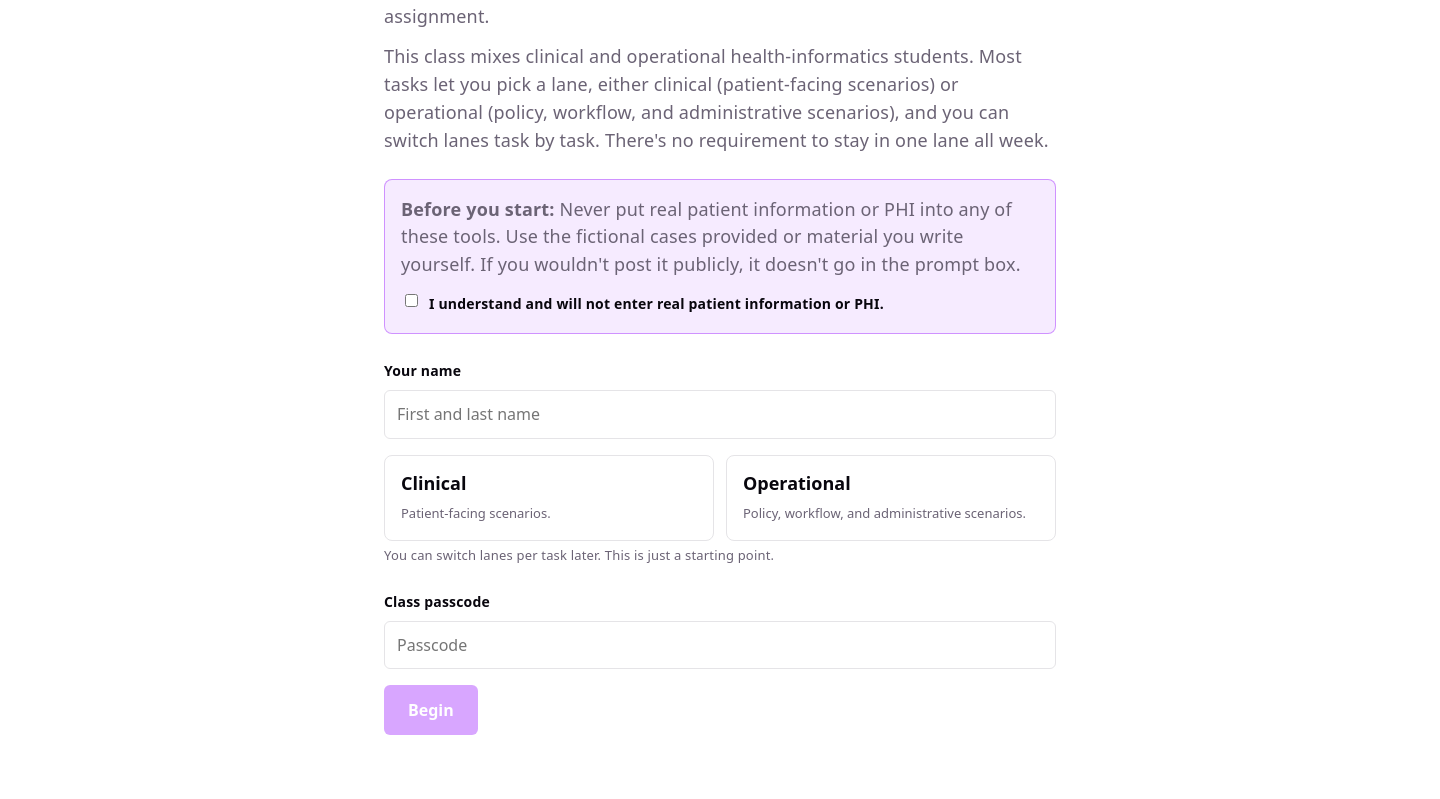
Test: App — first-visit vs resumed greeting › says "Welcome," not "Welcome back," right after completing landing this session
(page scrolled)
Type "Jordan Lee" into the field labelled "Your name".
click(720, 414); type("Jordan Lee")  # box [384,390,1056,438]
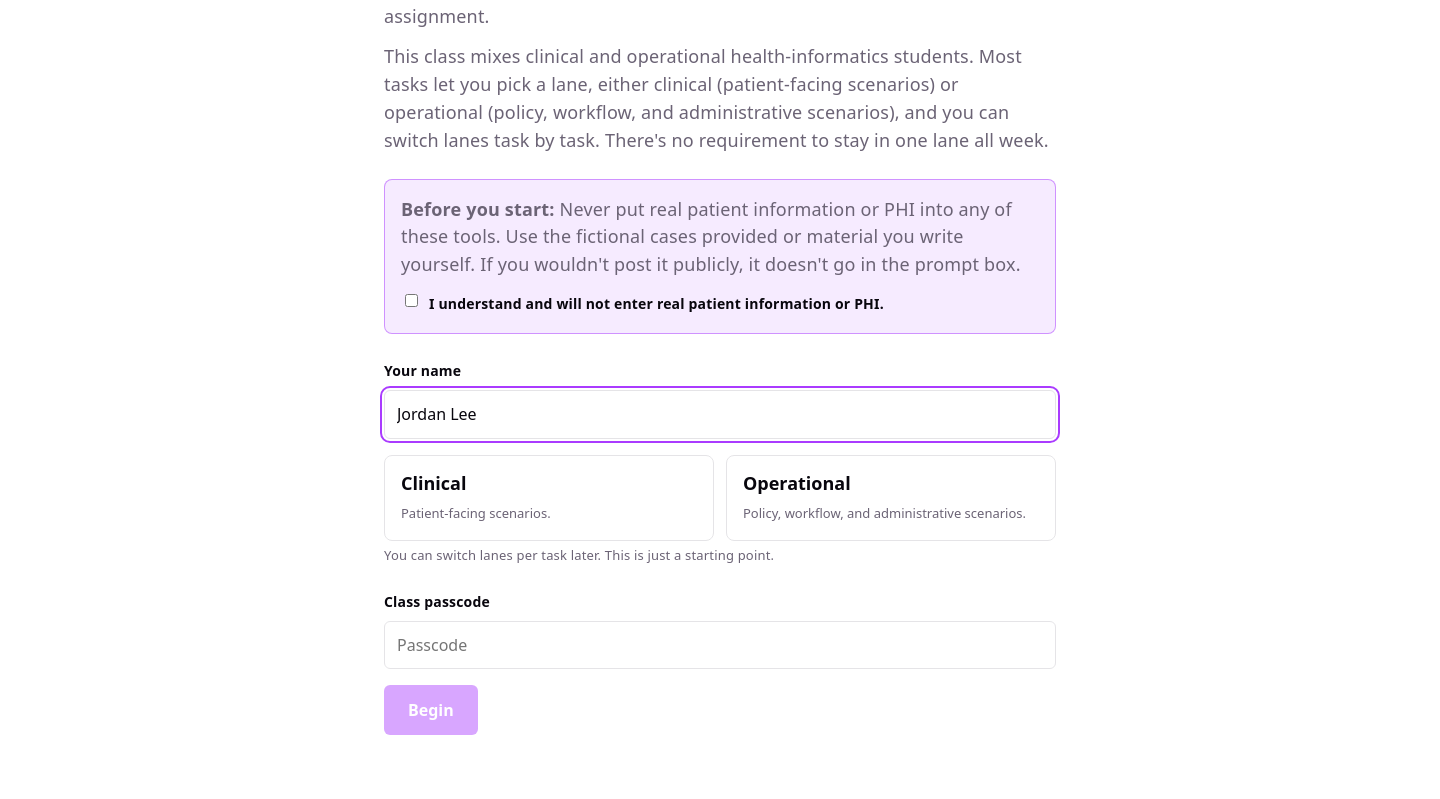
Click the button "Clinical Patient-facing scenarios.".
click(434, 482)  # box [384,454,714,541]
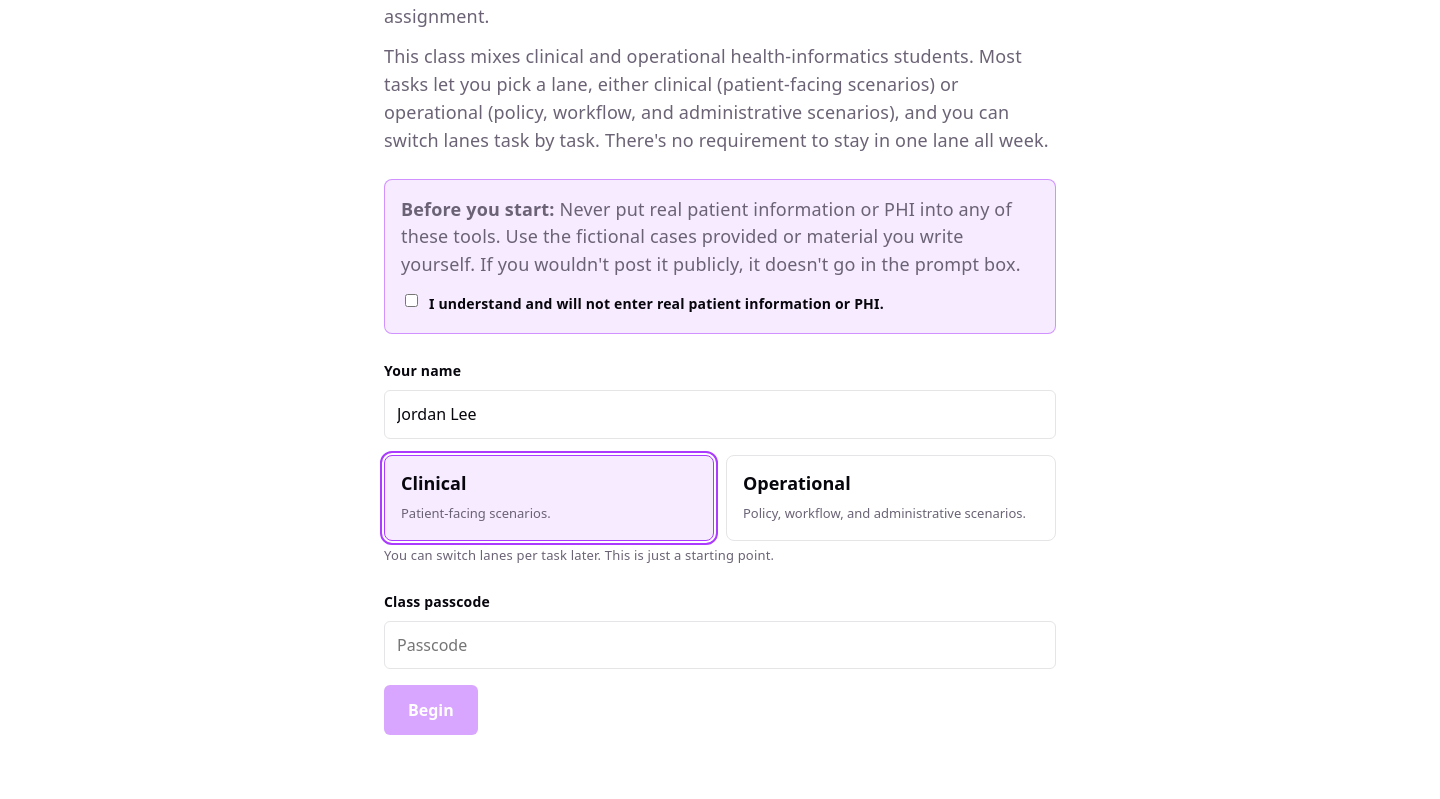
Click the checkbox labelled "will not enter real patient information".
click(412, 301)  # box [405,294,418,307]
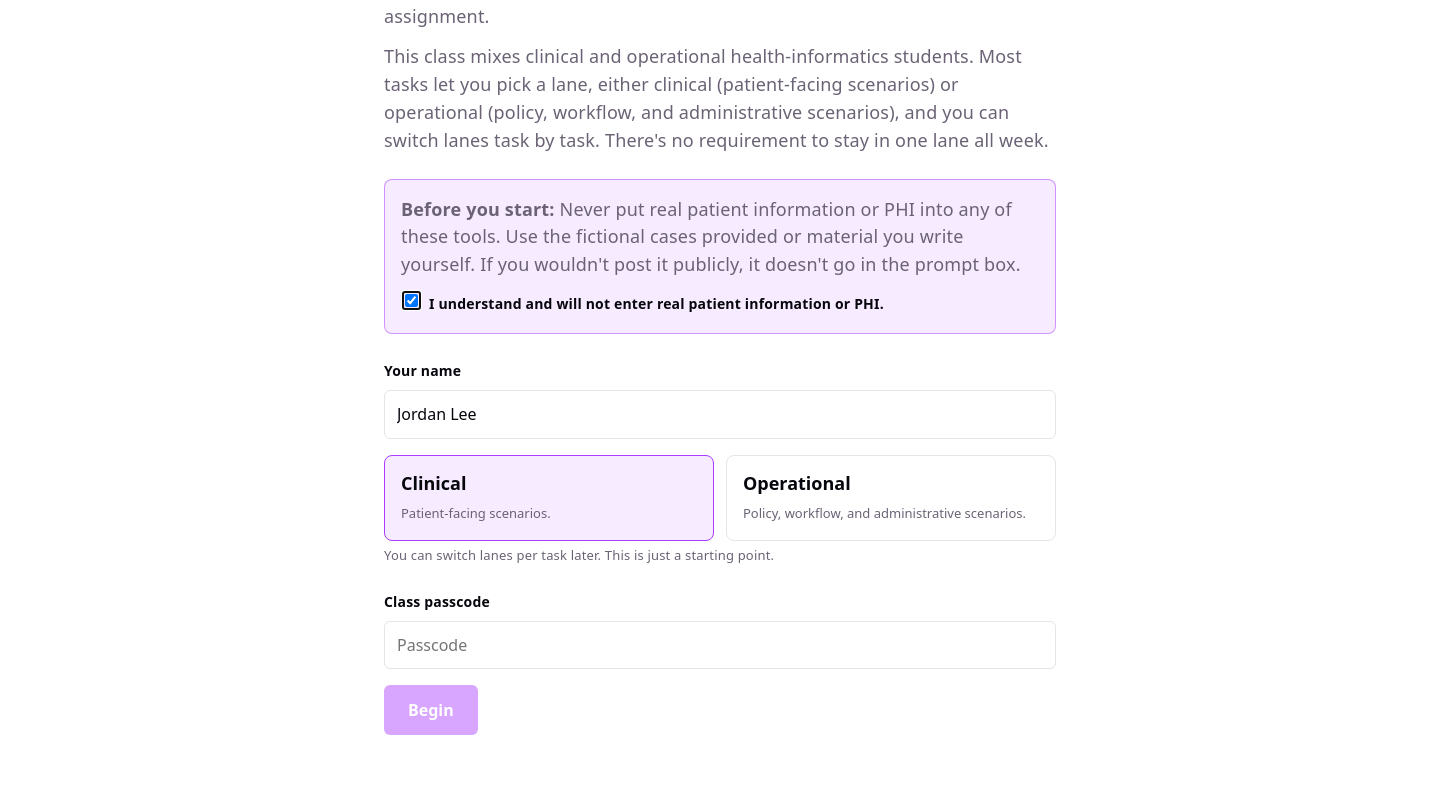
Type "class-secret" into the password field labelled "Class passcode".
click(720, 645); type("class-secret")  # box [384,621,1056,669]
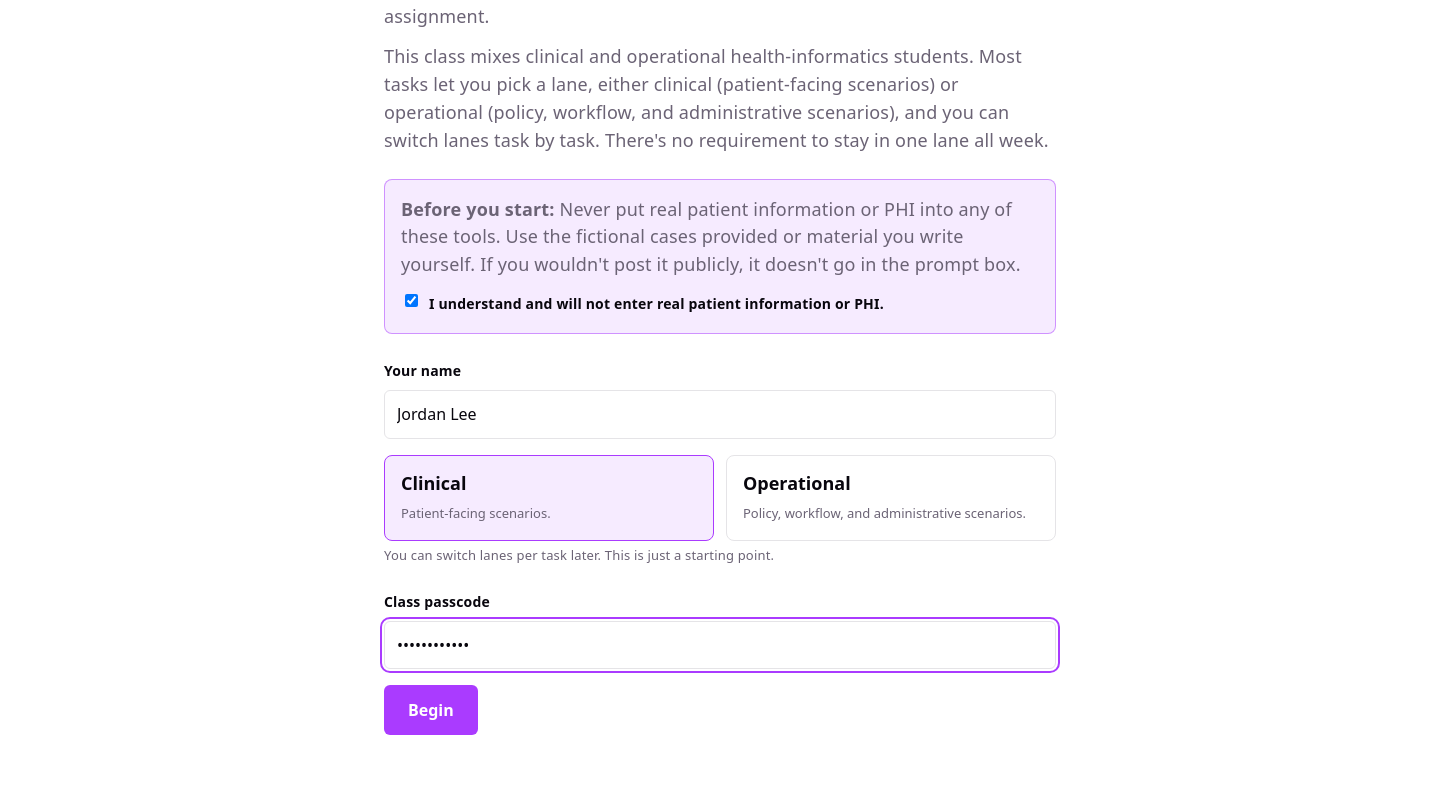
Click the button "Begin".
click(431, 710)  # box [384,685,478,735]
(page scrolled)
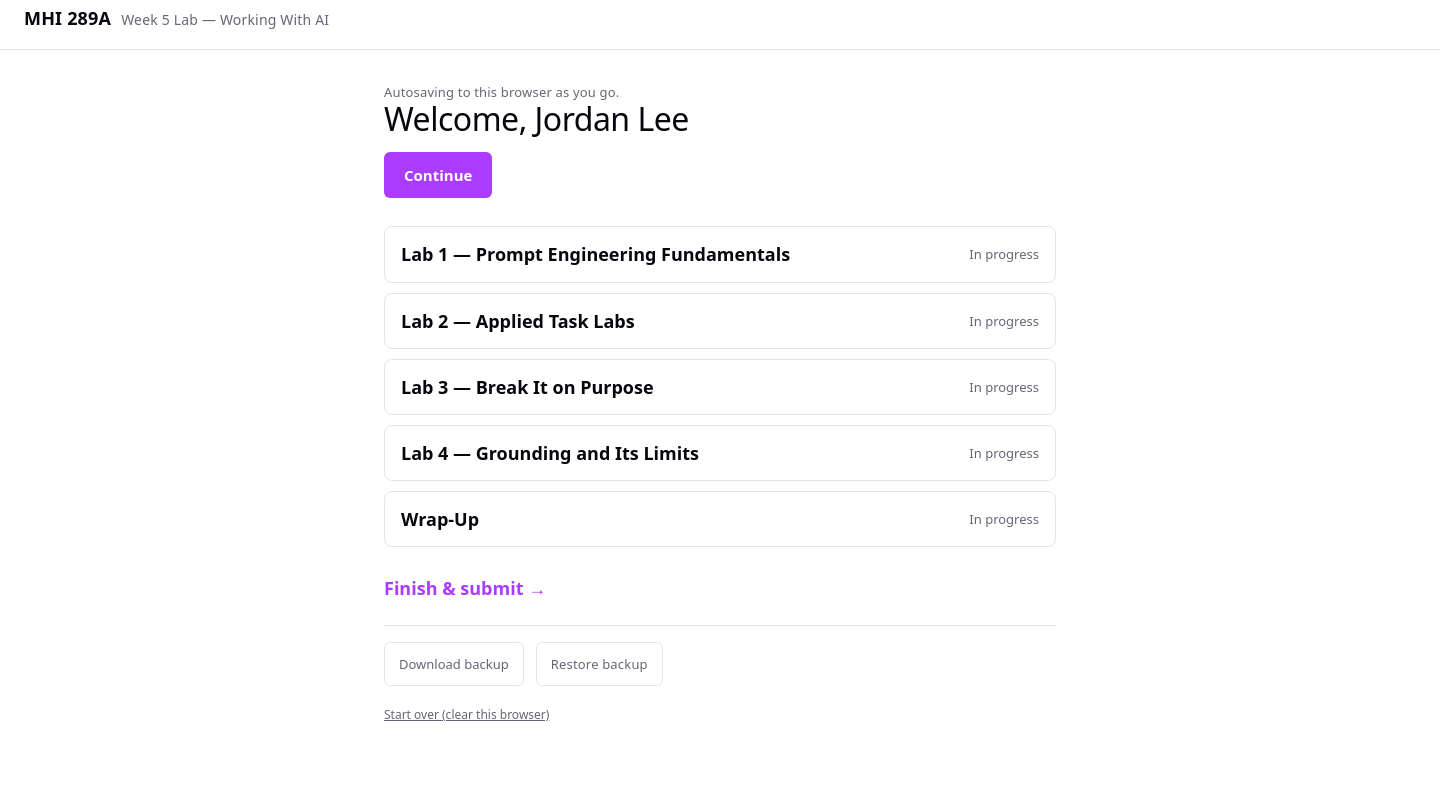
Result: the heading "Welcome, Jordan Lee" is shown at [384,97,689,140]
